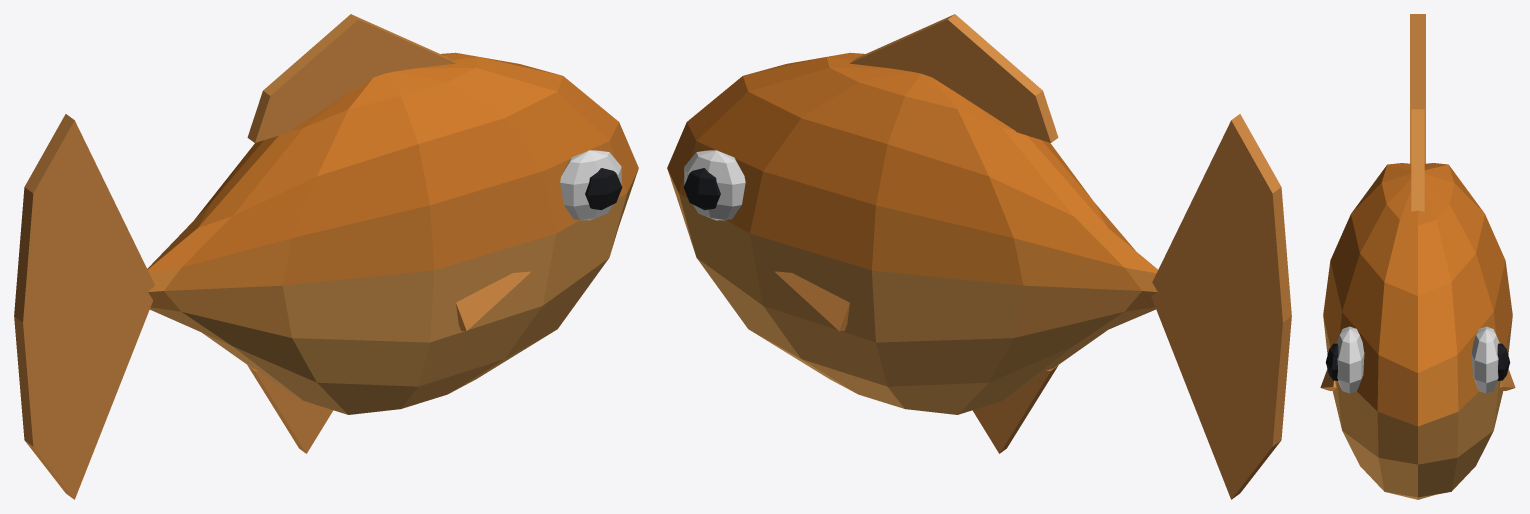
File: fish-goldfish.glb
3 renders of one model, left to right at view 1: azimuth 30°, elevation 25°; view 2: azimuth 150°, elevation 25°; view 3: azimuth 270°, elevation 25°, orthographic. The views are drawn at different scales.
Visible parts, largest first — view 1: fish-goldfish; view 2: fish-goldfish; view 3: fish-goldfish.
Boxes of the visible parts, box(x1,y1,x2,y2) form: fish-goldfish: box(14, 14, 638, 499); fish-goldfish: box(667, 14, 1291, 499); fish-goldfish: box(1320, 14, 1515, 499).
Bounding box in the file's own units: 1.2 × 0.78 × 0.3704.
